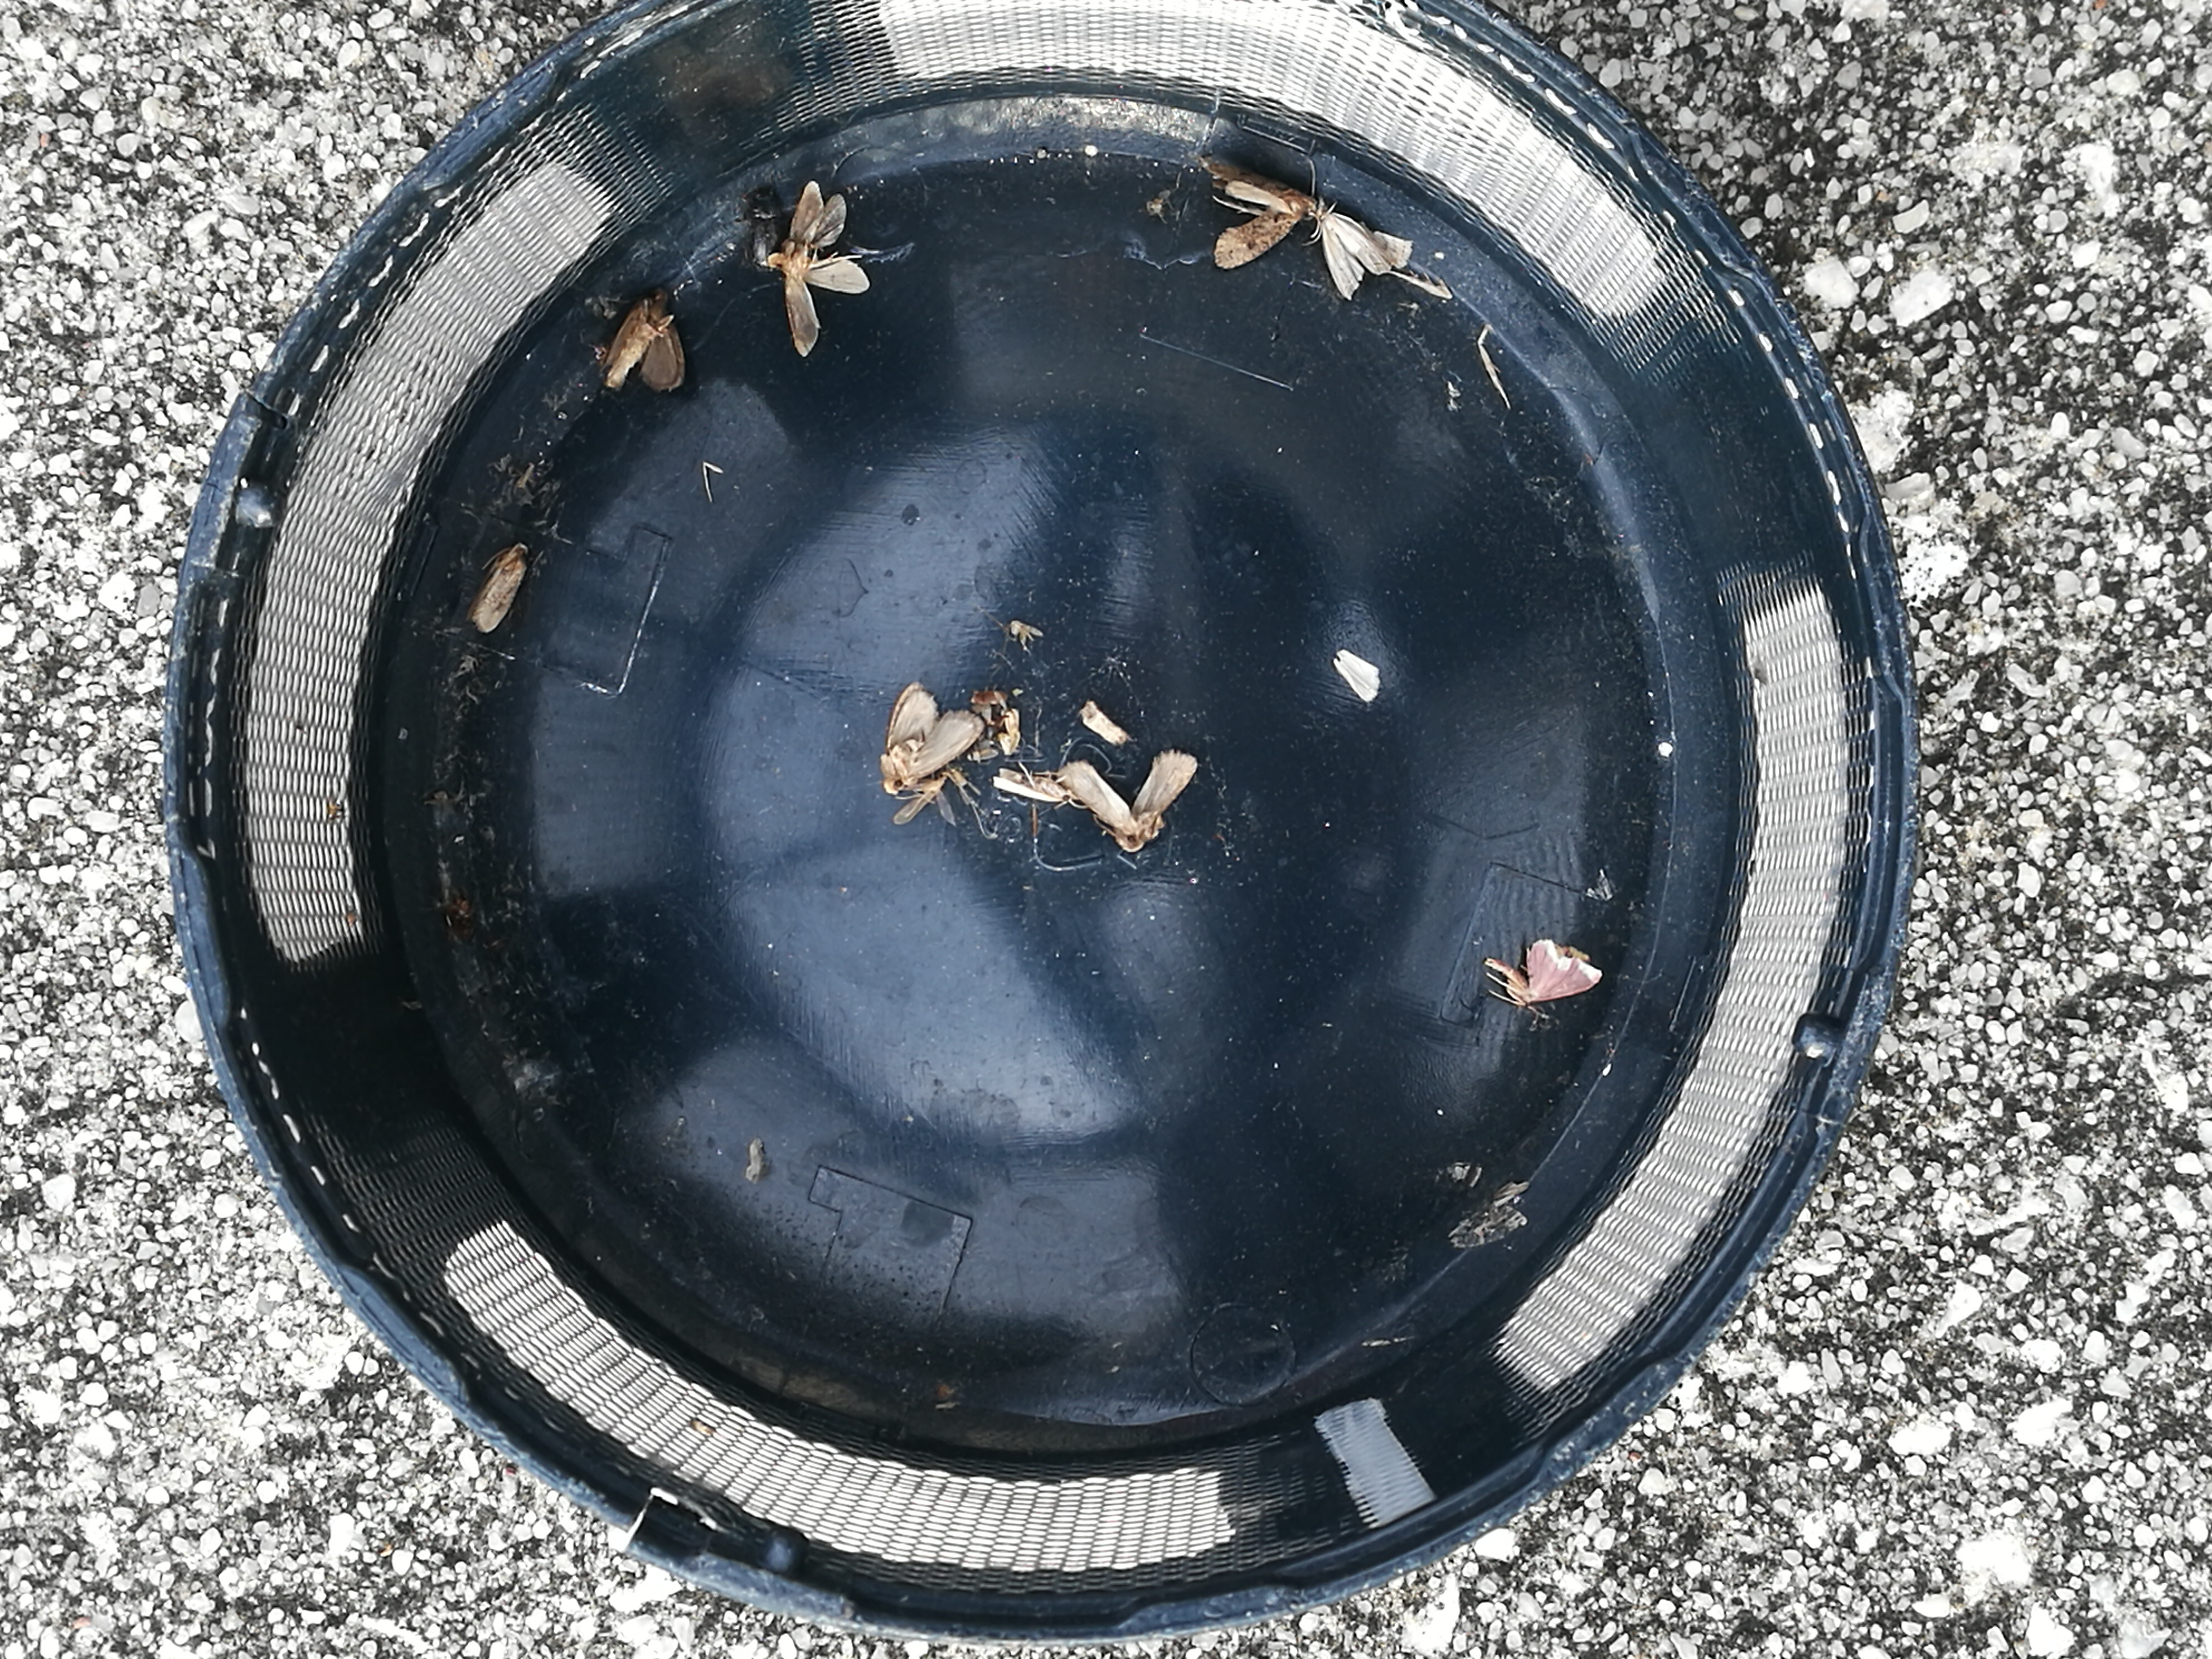mosquito: (474, 547, 526, 629), (993, 770, 1062, 800)
moth: (768, 183, 871, 359), (1062, 749, 1197, 850), (883, 685, 984, 793), (1216, 183, 1308, 272), (606, 291, 683, 392), (1489, 943, 1602, 1002), (1320, 204, 1386, 300)
